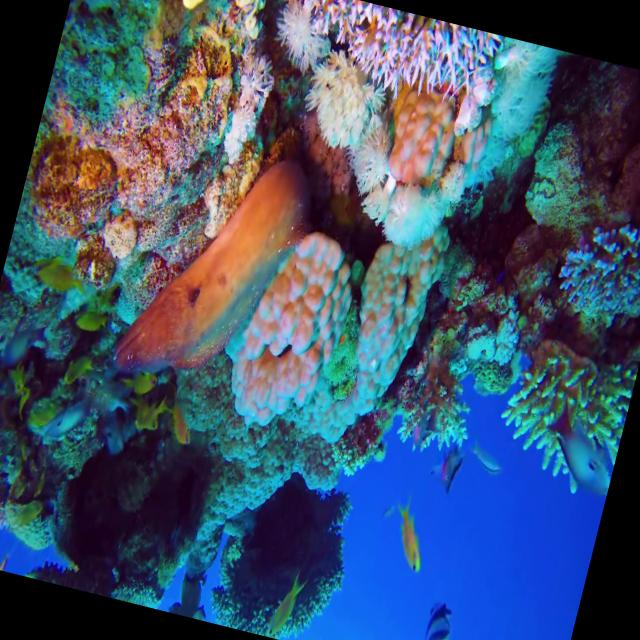fish: (108, 122, 333, 402), (367, 492, 443, 580), (418, 444, 472, 508), (404, 590, 465, 640)
